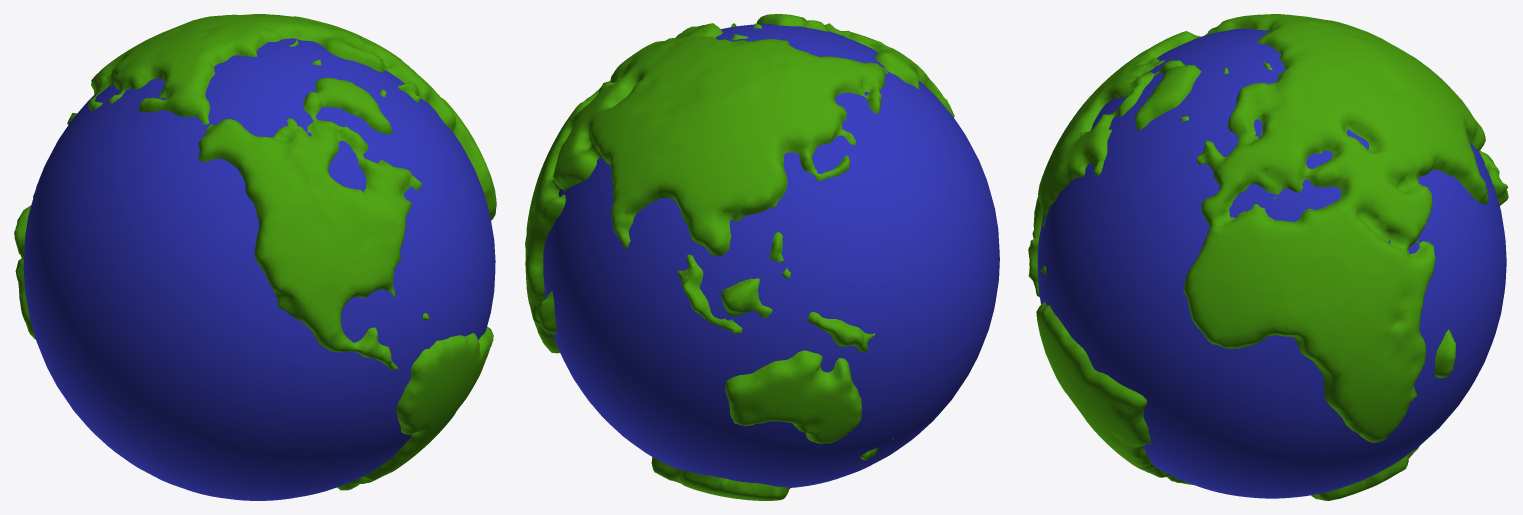
File: globe-2.fbx
The picture shows the model from 3 angles, left to right: view 1: azimuth 30°, elevation 25°; view 2: azimuth 150°, elevation 25°; view 3: azimuth 270°, elevation 25°; orthographic projection. The views are drawn at different scales.
Parts seen in each view (by area): view 1: Globbe, Earth.001; view 2: Globbe, Earth.001; view 3: Earth.001, Globbe.
Part boxes in pixels (bbox=[...]): Globbe: bbox=[23, 38, 495, 500]; Earth.001: bbox=[14, 14, 496, 490]; Globbe: bbox=[543, 24, 999, 487]; Earth.001: bbox=[525, 14, 954, 500]; Earth.001: bbox=[1028, 14, 1508, 500]; Globbe: bbox=[1037, 28, 1506, 498].
Size of the model in its own units: 1080 by 1117 by 1083.
